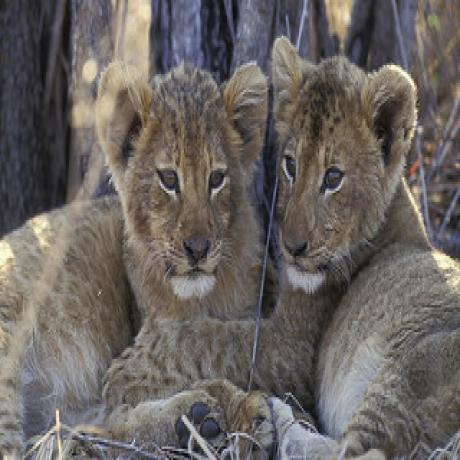Lion: (0, 62, 267, 460), (270, 36, 460, 458)
